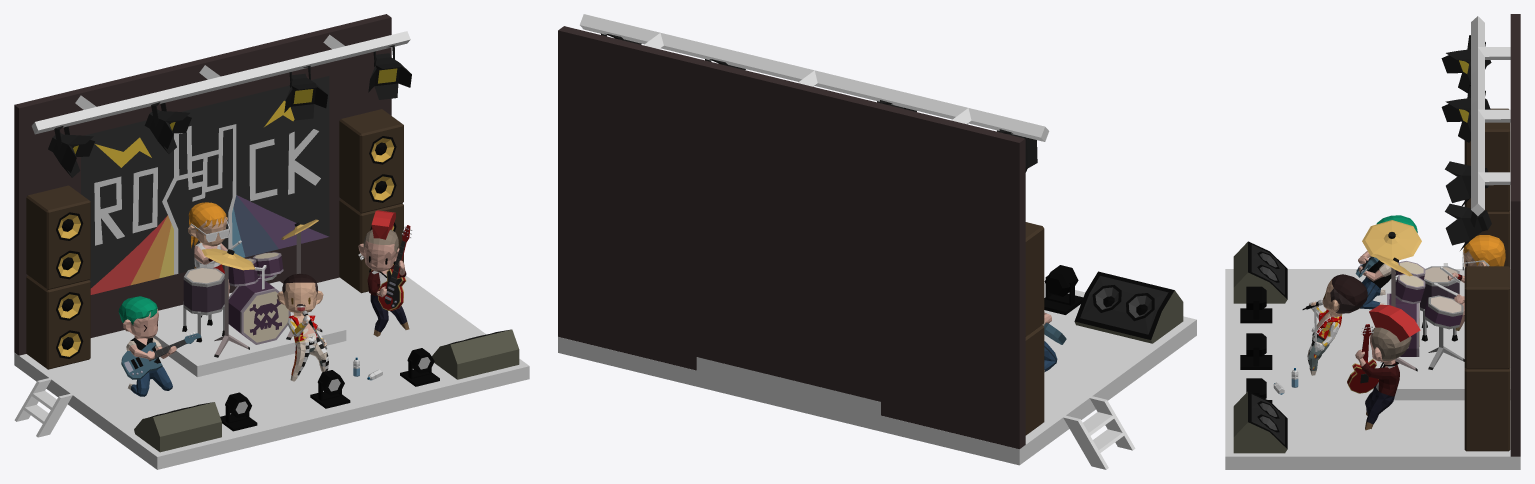
Rendered from 0013_rockConcert.fbx.
3 renders of one model, left to right at view 1: azimuth 30°, elevation 25°; view 2: azimuth 150°, elevation 25°; view 3: azimuth 270°, elevation 25°, orthographic. The views are drawn at different scales.
Visible parts, largest first — view 1: wall, floor, speaker (×4), monitor_speaker (×2), celing_light (×4), light_stick, head (×3), drum_bass_drum, floor_light (×3), drum_floor_tom, stairs, Man_Head (+9 smaller); view 2: wall, floor, light_stick, monitor_speaker, speaker (×2), stairs, floor_light; view 3: floor, speaker (×4), monitor_speaker (×2), wall, head (×3), celing_light (×4), light_stick, floor_light (×3), drum_top_cymbal, drum_snare_drum, drum_floor_tom, guitarist_top_body (+10 smaller).
Part boxes in pixels (bbox=[...]): wall: bbox=[14, 14, 391, 355]; floor: bbox=[14, 276, 529, 469]; speaker (×4): bbox=[26, 109, 403, 369]; monitor_speaker (×2): bbox=[134, 329, 519, 452]; celing_light (×4): bbox=[48, 45, 411, 177]; light_stick: bbox=[31, 31, 410, 134]; head (×3): bbox=[188, 202, 399, 315]; drum_bass_drum: bbox=[228, 277, 290, 344]; floor_light (×3): bbox=[220, 348, 439, 431]; drum_floor_tom: bbox=[182, 267, 224, 342]; stairs: bbox=[14, 378, 72, 437]; Man_Head: bbox=[118, 296, 158, 339]; wall: bbox=[558, 26, 1025, 449]; floor: bbox=[558, 282, 1196, 465]; light_stick: bbox=[580, 14, 1049, 141]; monitor_speaker: bbox=[1074, 271, 1183, 343]; speaker (×2): bbox=[1025, 222, 1044, 435]; stairs: bbox=[1063, 396, 1135, 469]; floor_light: bbox=[1044, 265, 1083, 314]; floor: bbox=[1225, 269, 1520, 469]; speaker (×4): bbox=[1464, 108, 1510, 451]; monitor_speaker (×2): bbox=[1233, 241, 1287, 453]; wall: bbox=[1510, 14, 1520, 456]; head (×3): bbox=[1322, 235, 1505, 364]; celing_light (×4): bbox=[1441, 35, 1491, 250]; light_stick: bbox=[1471, 16, 1510, 215]; floor_light (×3): bbox=[1240, 286, 1272, 402]; drum_top_cymbal: bbox=[1362, 220, 1421, 260]; drum_snare_drum: bbox=[1424, 295, 1464, 369]; drum_floor_tom: bbox=[1420, 266, 1459, 341]; guitarist_top_body: bbox=[1355, 349, 1399, 396].
Bounding box in the file's own units: 12.46 × 8.22 × 7.59.
